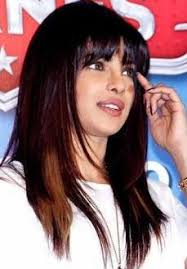indian_female: (34, 1, 161, 165)
